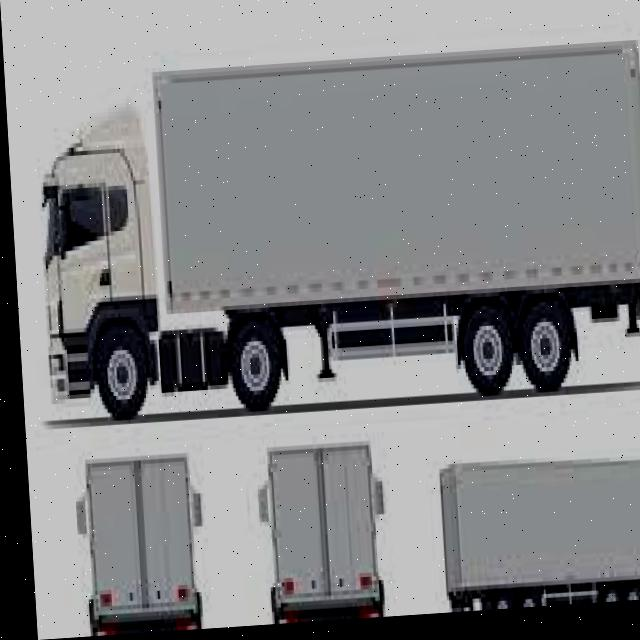truck: (26, 40, 640, 428)
